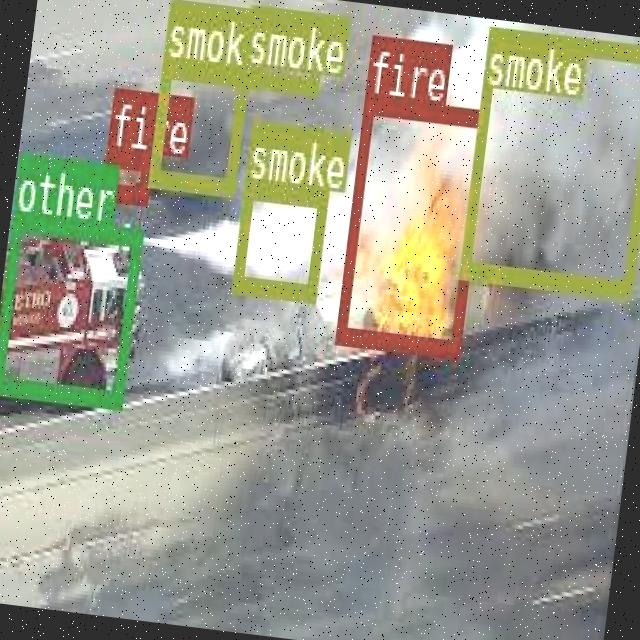fire: (334, 94, 488, 354), (101, 147, 150, 200)
smoke: (458, 24, 640, 294), (147, 58, 248, 194), (229, 180, 327, 298), (241, 2, 326, 94)
